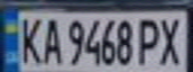4: (81, 16, 103, 66)
6: (100, 16, 121, 66)
8: (115, 16, 139, 66)
9: (63, 16, 84, 65)
A: (36, 14, 63, 65)
K: (15, 12, 45, 65)
P: (136, 15, 163, 66)
X: (154, 12, 190, 66)
